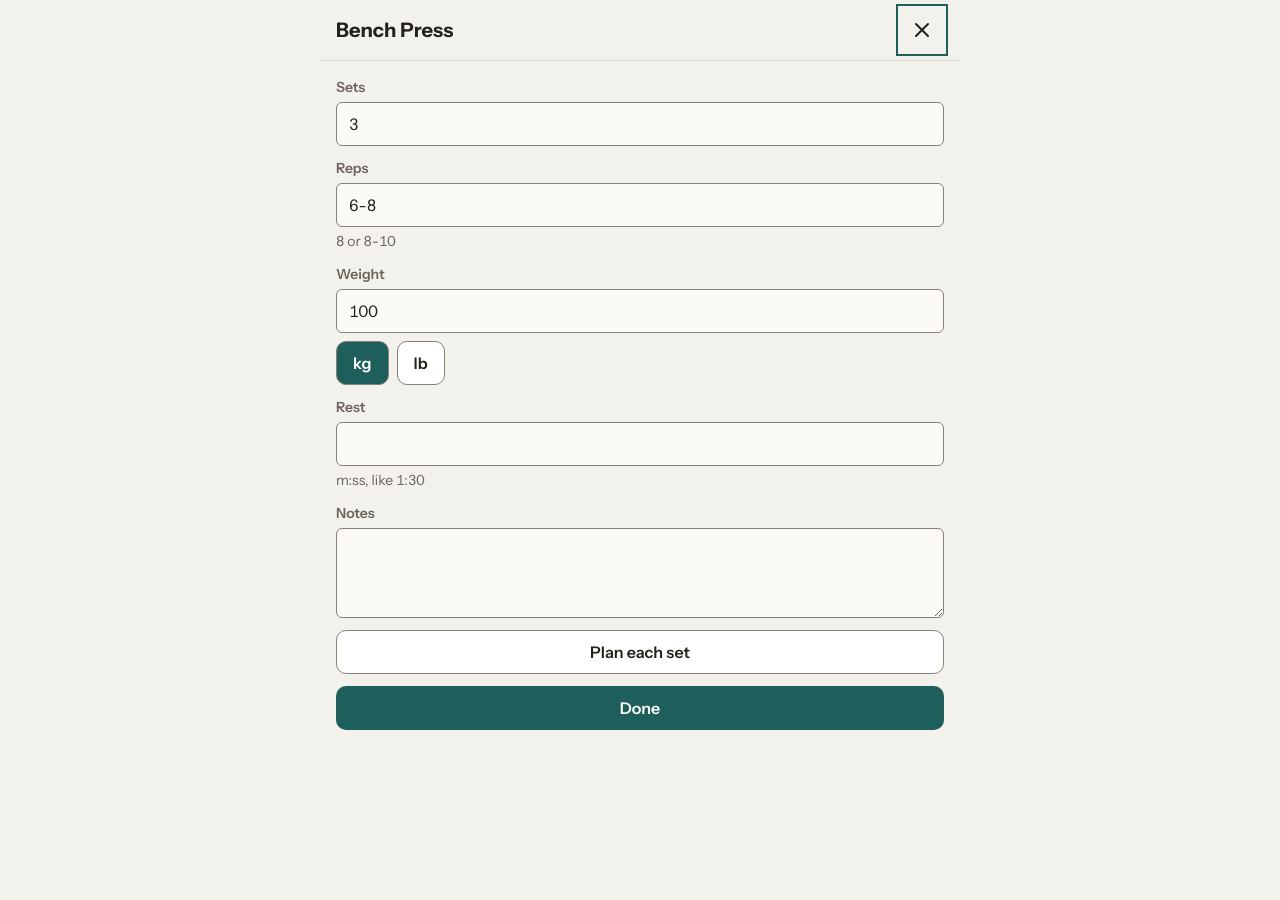
Scenario: 10.2 AC12 — Plan each set › the quick line always offers it; it replaces Sets / Reps / Weight with rows and keeps Rest, Notes (no RPE, 17.1 AC1)
The image size is (1280, 900).
Click the button "Plan each set": {"x": 640, "y": 652} [336,630,944,674]
(page scrolled)
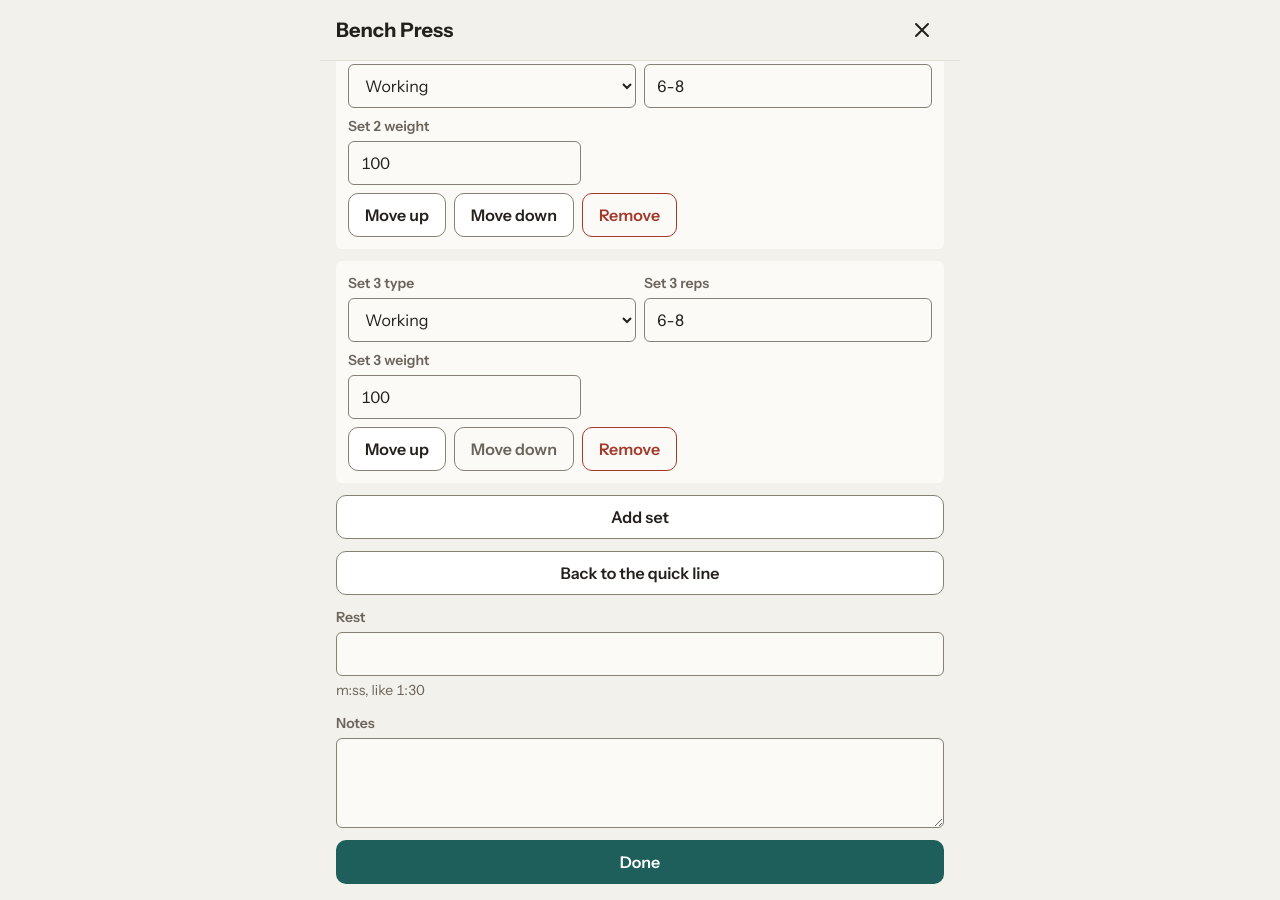
Now the field labelled "Set 3 weight" holds "100", box [348,375,581,419]
Now the label labelled "Sets" is gone
Now the button "Plan each set" is gone
